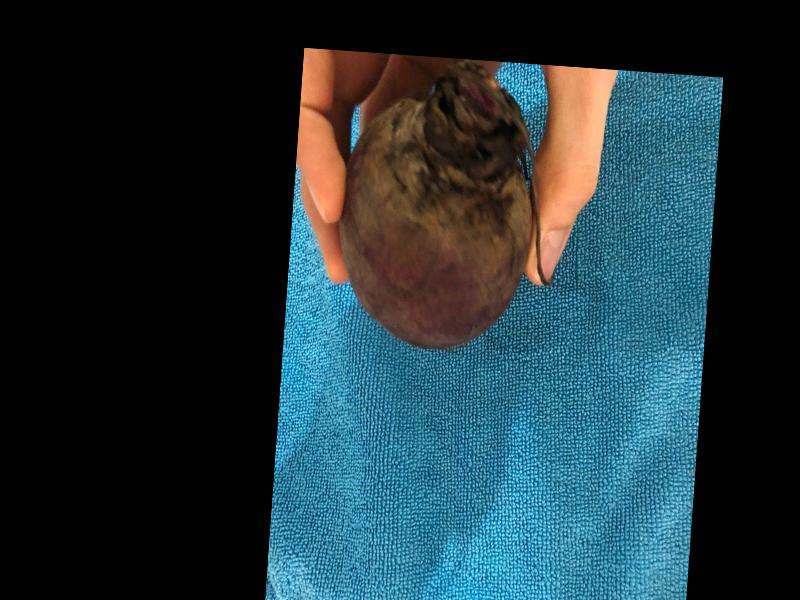Beet: (331, 56, 567, 356)
